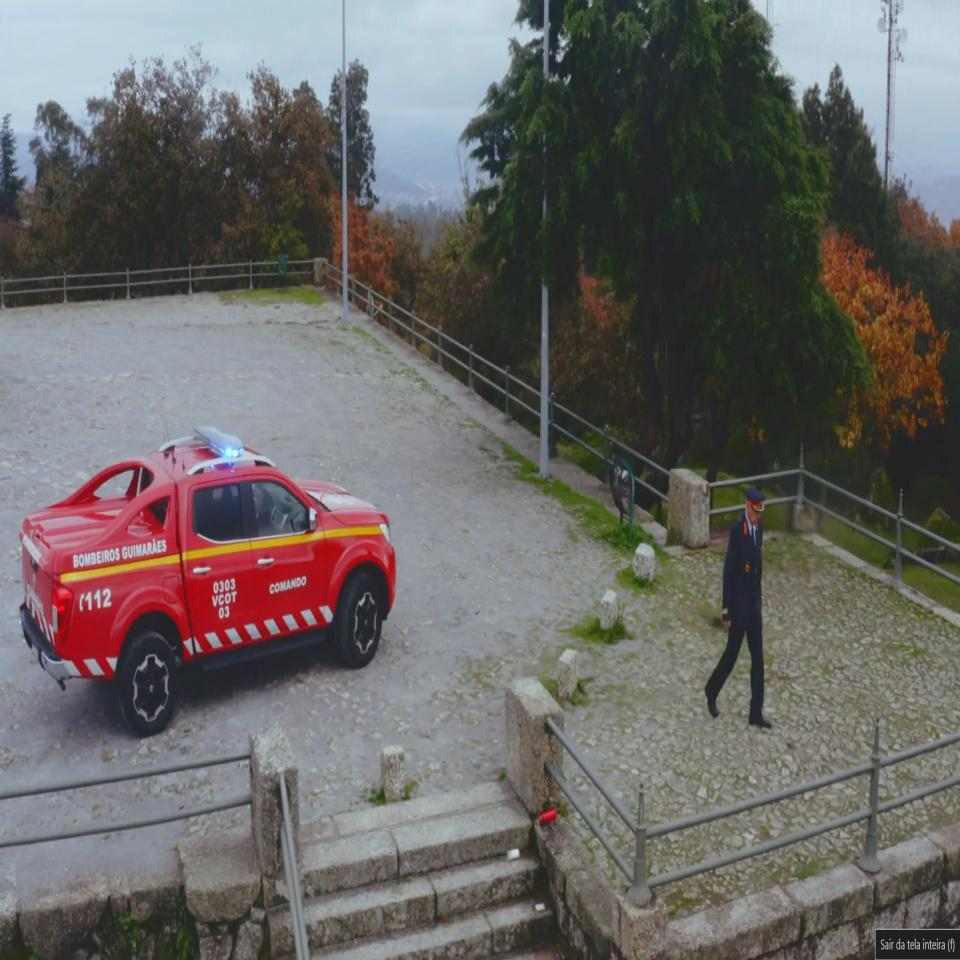viatura: (20, 425, 397, 738)
